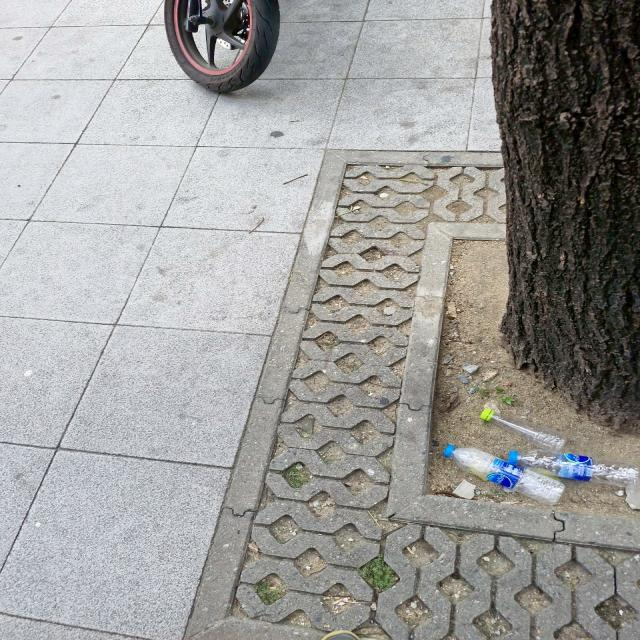plastic bottle: (444, 441, 564, 503), (504, 444, 640, 484)
